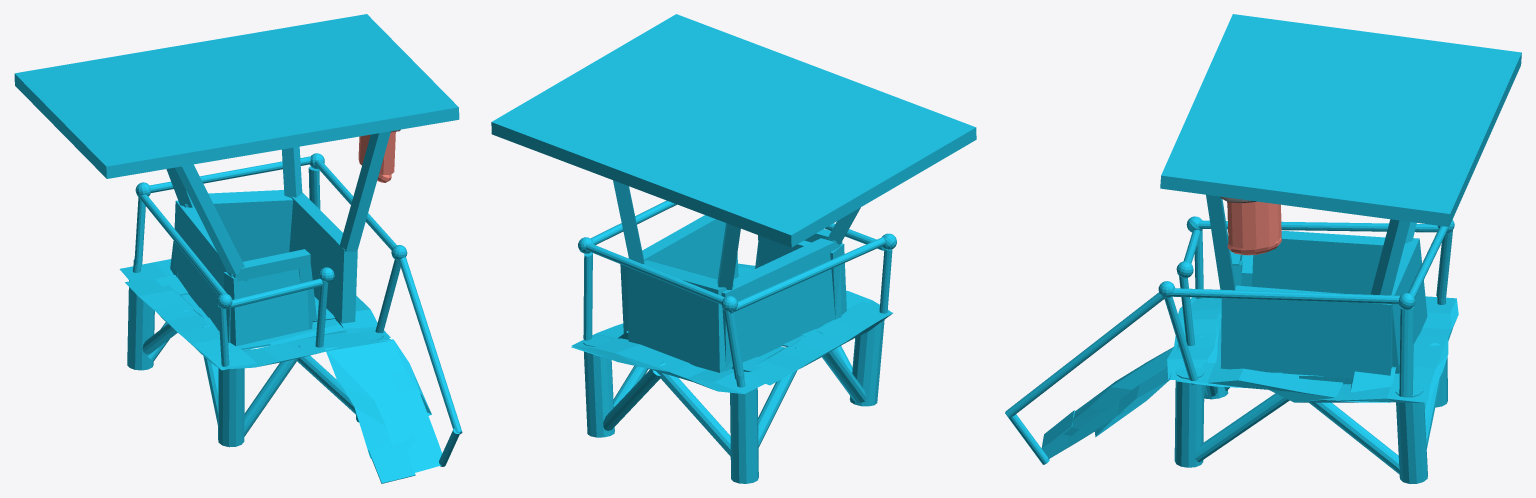
File: tower.glb
The picture shows the model from 3 angles, left to right: view 1: azimuth 30°, elevation 25°; view 2: azimuth 150°, elevation 25°; view 3: azimuth 270°, elevation 25°; orthographic projection. The views are drawn at different scales.
Parts seen in each view (by area): view 1: group1000692817, group1556254399, group1161729516, group39850034, group1630419923, group829961876, group378736408, group2018670624, group483876331, group1538615086, group1054282278, group1258359076 (+21 smaller); view 2: group1000692817, group829961876, group39850034, group1161729516, group2018670624, group1257946935, group1556217622, group805740272, group1258359076, group1188251537, group1630419923, group1955387377 (+10 smaller); view 3: group1000692817, group1161729516, group829961876, group1563385796, group1257946935, group345810588, group805740272, group176380931, group39850034, group378736408, group125514560, group1556254399 (+13 smaller).
Boxes of the visible parts, bbox=[...] form: group1000692817: bbox=[14, 14, 459, 178]; group1556254399: bbox=[325, 346, 416, 458]; group1161729516: bbox=[289, 192, 357, 323]; group39850034: bbox=[170, 190, 293, 276]; group1630419923: bbox=[223, 269, 308, 346]; group829961876: bbox=[173, 200, 233, 342]; group378736408: bbox=[360, 339, 442, 473]; group2018670624: bbox=[125, 280, 256, 370]; group483876331: bbox=[340, 131, 390, 251]; group1538615086: bbox=[175, 164, 244, 275]; group1054282278: bbox=[223, 330, 392, 369]; group1258359076: bbox=[218, 368, 244, 447]; group1000692817: bbox=[491, 14, 976, 247]; group829961876: bbox=[721, 238, 841, 370]; group39850034: bbox=[627, 260, 733, 372]; group1161729516: bbox=[620, 215, 738, 333]; group2018670624: bbox=[745, 301, 892, 385]; group1257946935: bbox=[571, 334, 764, 394]; group1556217622: bbox=[730, 384, 758, 483]; group805740272: bbox=[583, 336, 614, 437]; group1258359076: bbox=[849, 320, 884, 406]; group1188251537: bbox=[730, 237, 884, 313]; group1630419923: bbox=[758, 235, 846, 318]; group1955387377: bbox=[656, 362, 730, 456]; group1000692817: bbox=[1160, 14, 1521, 226]; group1161729516: bbox=[1220, 285, 1392, 378]; group829961876: bbox=[1251, 230, 1385, 294]; group1563385796: bbox=[1176, 363, 1427, 402]; group1257946935: bbox=[1388, 296, 1458, 399]; group345810588: bbox=[1174, 368, 1204, 467]; group805740272: bbox=[1395, 383, 1427, 483]; group176380931: bbox=[1227, 201, 1281, 248]; group39850034: bbox=[1391, 238, 1427, 373]; group378736408: bbox=[1042, 365, 1171, 459]; group125514560: bbox=[1171, 288, 1399, 304]; group1556254399: bbox=[1061, 344, 1178, 435].
Bounding box in the file's own units: 1.56 × 1.26 × 1.8.
